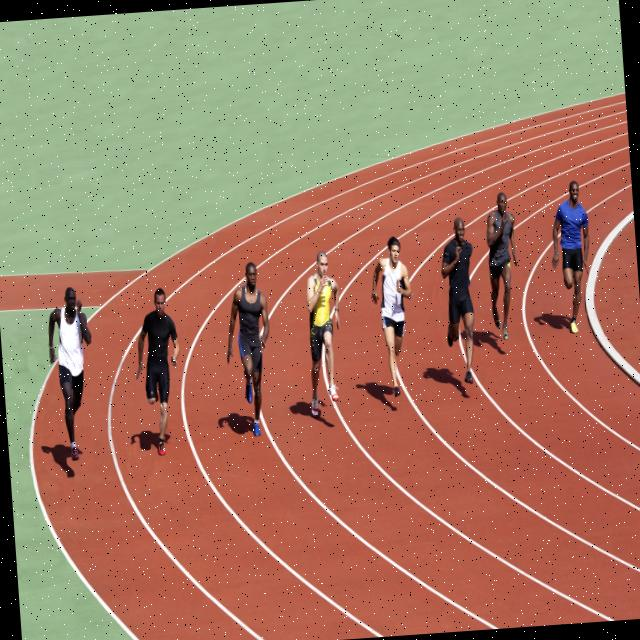Person: (220, 259, 276, 436), (130, 286, 187, 456), (45, 287, 99, 461), (369, 235, 419, 398), (301, 250, 347, 414), (438, 215, 482, 385), (548, 181, 594, 334), (484, 192, 523, 340)
